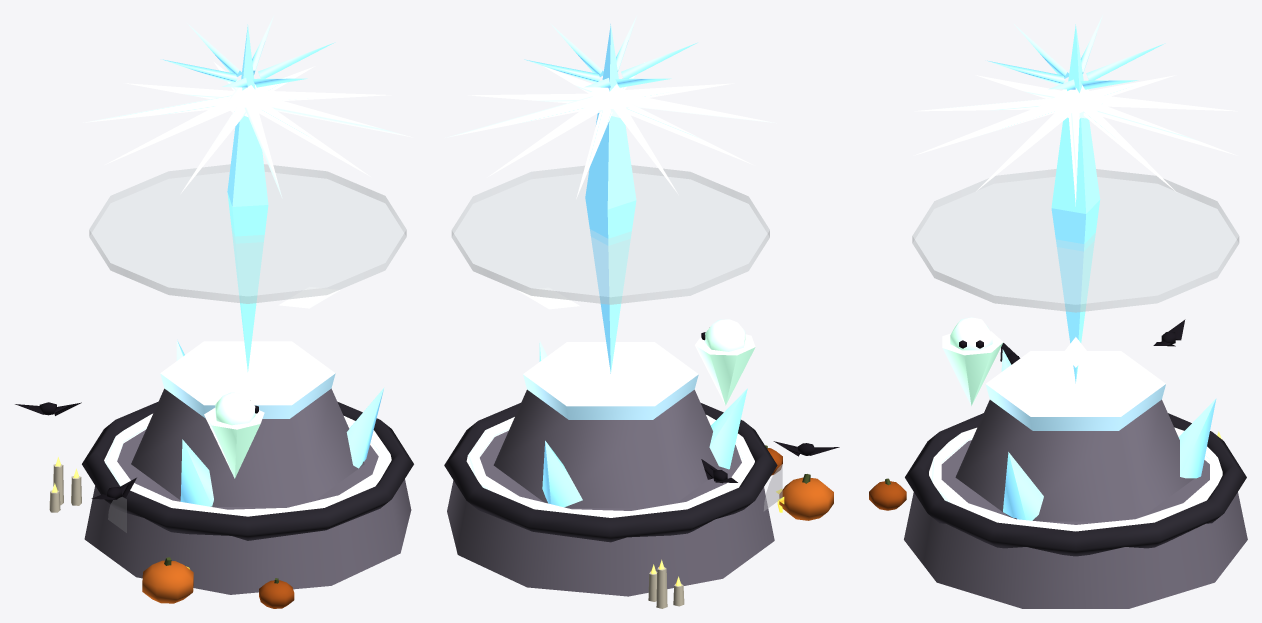
Rendered from tower_freeze_winter.glb.
3 renders of one model, left to right at view 1: azimuth 30°, elevation 25°; view 2: azimuth 150°, elevation 25°; view 3: azimuth 270°, elevation 25°, orthographic. The views are drawn at different scales.
Parts seen in each view (by area): view 1: winter_mist, base, pedestal, base_rim, pedestal_frost, crystal, aura_ring, deco_hw_jack_body, deco_hw_ghost_sheet, side_crystal_1, side_crystal_0, deco_hw_ghost_head (+12 smaller); view 2: winter_mist, base, pedestal, pedestal_frost, base_rim, crystal, aura_ring, deco_hw_ghost_sheet, deco_hw_jack_body, side_crystal_1, side_crystal_2, deco_hw_ghost_head (+12 smaller); view 3: winter_mist, base, pedestal, pedestal_frost, base_rim, crystal, aura_ring, deco_hw_ghost_sheet, side_crystal_0, side_crystal_2, canopy_branch_2, deco_hw_ghost_head (+9 smaller).
Part boxes in pixels (left/top/right/bottom): winter_mist: left=89, top=164, right=406, bottom=303; base: left=84, top=430, right=411, bottom=594; pedestal: left=131, top=388, right=364, bottom=506; base_rim: left=82, top=401, right=413, bottom=540; pedestal_frost: left=160, top=341, right=335, bottom=418; crystal: left=227, top=24, right=268, bottom=371; aura_ring: left=104, top=413, right=391, bottom=516; deco_hw_jack_body: left=142, top=560, right=193, bottom=603; deco_hw_ghost_sheet: left=204, top=408, right=264, bottom=478; side_crystal_1: left=180, top=439, right=213, bottom=506; side_crystal_0: left=346, top=387, right=384, bottom=468; deco_hw_ghost_head: left=215, top=392, right=255, bottom=425; winter_mist: left=451, top=165, right=769, bottom=304; base: left=447, top=431, right=774, bottom=596; pedestal: left=493, top=389, right=723, bottom=508; pedestal_frost: left=523, top=342, right=698, bottom=419; base_rim: left=444, top=403, right=777, bottom=542; crystal: left=585, top=24, right=636, bottom=373; aura_ring: left=466, top=415, right=754, bottom=517; deco_hw_ghost_sheet: left=695, top=334, right=755, bottom=405; deco_hw_jack_body: left=779, top=477, right=833, bottom=520; side_crystal_1: left=709, top=388, right=747, bottom=469; side_crystal_2: left=542, top=440, right=582, bottom=507; deco_hw_ghost_head: left=704, top=319, right=745, bottom=351; winter_mist: left=912, top=169, right=1239, bottom=312; base: left=904, top=440, right=1247, bottom=608; pedestal: left=955, top=399, right=1194, bottom=521; pedestal_frost: left=985, top=351, right=1165, bottom=430; base_rim: left=905, top=413, right=1246, bottom=556; crystal: left=1051, top=24, right=1100, bottom=383; aura_ring: left=929, top=427, right=1222, bottom=531; deco_hw_ghost_sheet: left=942, top=331, right=1003, bottom=405; side_crystal_0: left=1003, top=452, right=1043, bottom=520; side_crystal_2: left=1178, top=398, right=1216, bottom=478; canopy_branch_2: left=913, top=100, right=1060, bottom=155; deco_hw_ghost_head: left=950, top=317, right=992, bottom=350.
Size of the model in its own units: 0.4673 by 0.662 by 0.4404.
